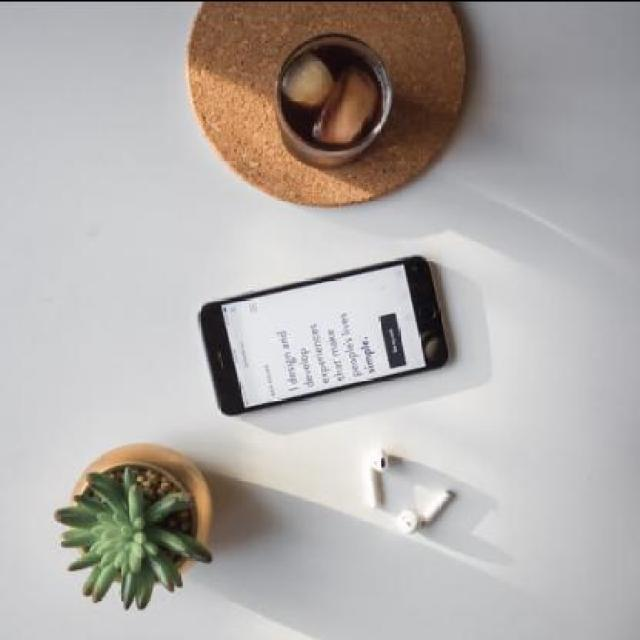phone: (200, 253, 452, 419)
